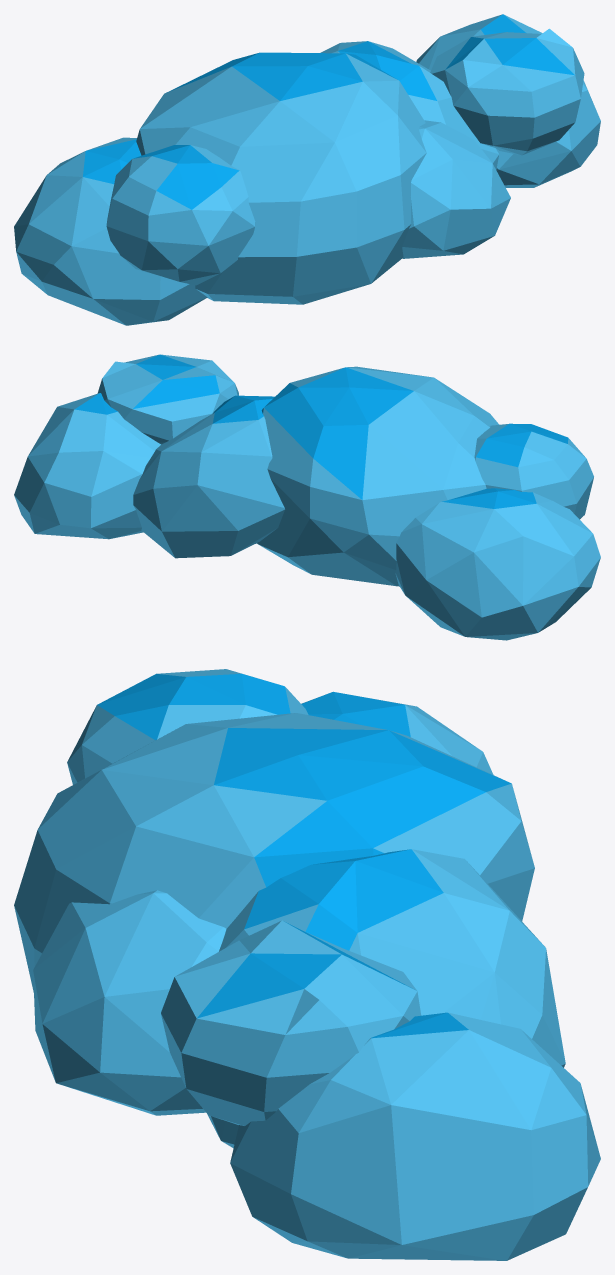
The model's file is whiteCloud.fbx.
The picture shows the model from 3 angles, top to bottom: view 1: azimuth 30°, elevation 25°; view 2: azimuth 150°, elevation 25°; view 3: azimuth 270°, elevation 25°; orthographic projection. The views are drawn at different scales.
Visible parts, largest first — view 1: Sphere; view 2: Sphere; view 3: Sphere.
Boxes of the visible parts, left/top/right/bottom form: Sphere: left=14, top=14, right=600, bottom=325; Sphere: left=14, top=354, right=600, bottom=640; Sphere: left=14, top=669, right=600, bottom=1260.
Size of the model in its own units: 6.76 by 2.15 by 3.58.
